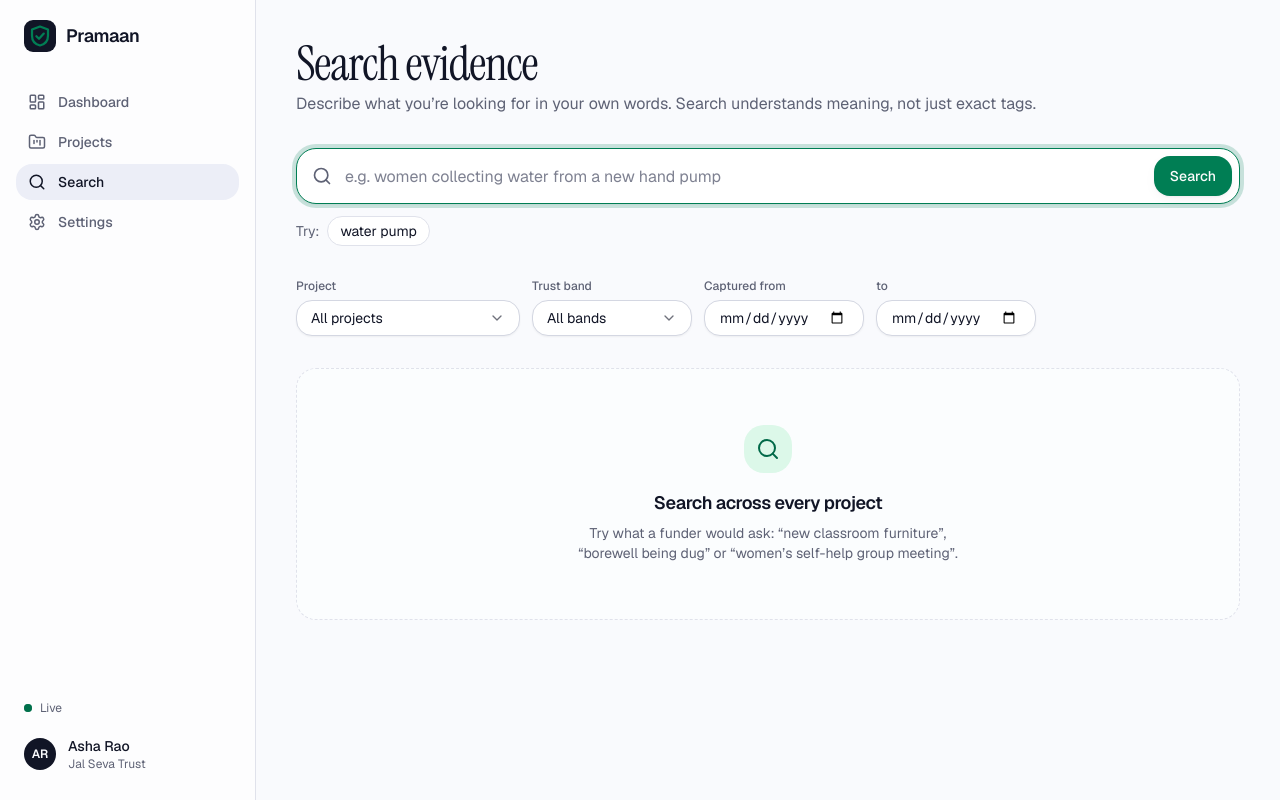
Scenario: search page › searches in plain words and shows how well each result matches
Note: Example searches come from the organisation's own tags.
Click the button "water pump" at (379, 231), box [327,216,430,246]
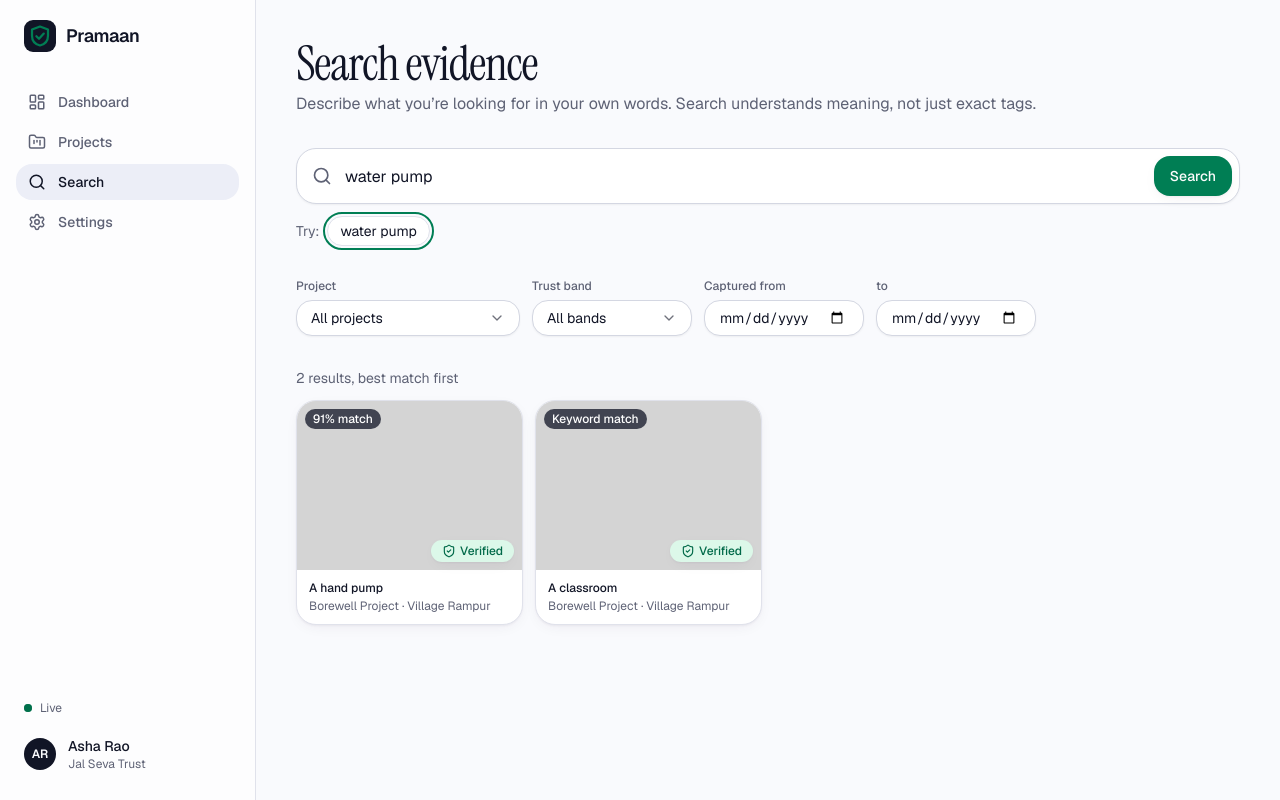
Expected: the text "91% match" is shown, [305,409,381,429]
Expected: the text "Keyword match" is shown, [544,409,647,429]
